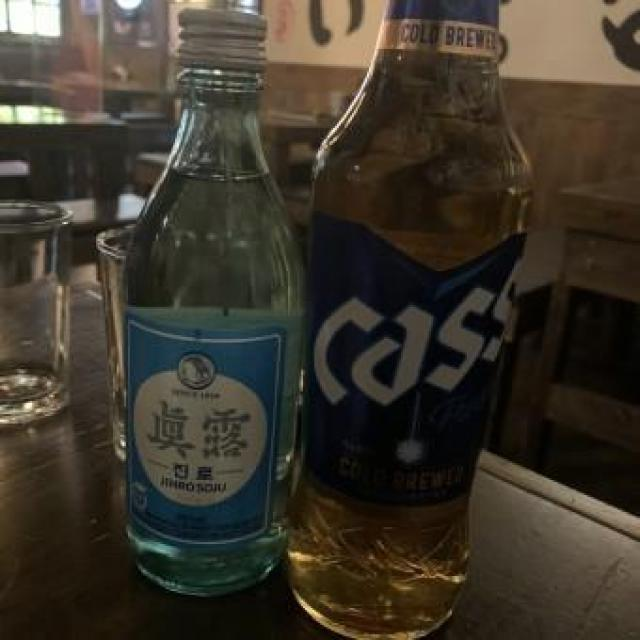beer-bottle: (300, 0, 550, 640)
soju-bottle: (127, 3, 302, 604)
